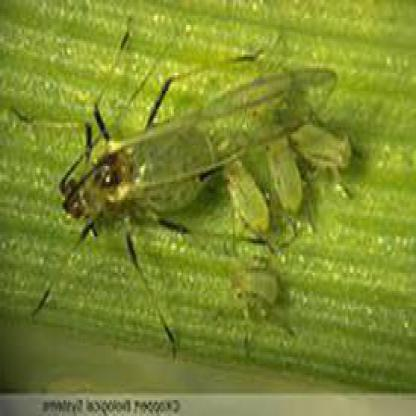schizaphis graminum: (223, 164, 271, 232), (293, 120, 351, 172), (266, 134, 302, 213)
